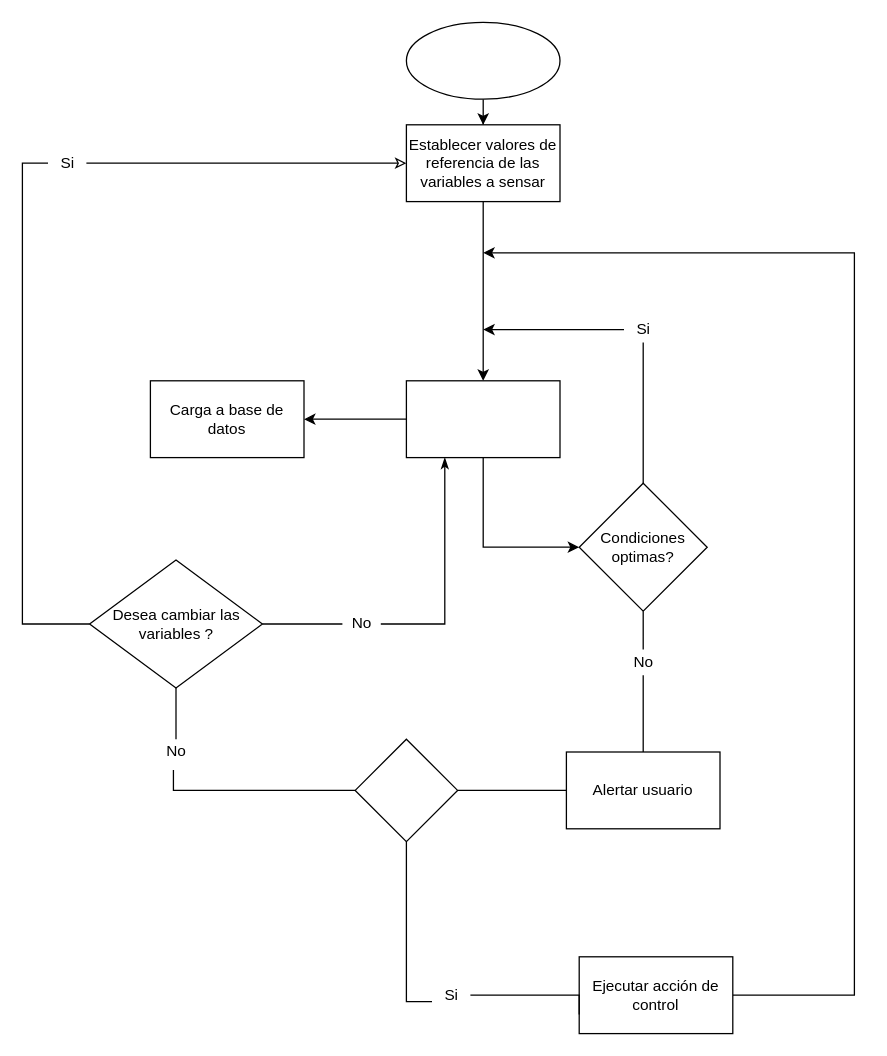
Some shapes in this 887 by 1056 pixel diagram are drawn without their labels. The shapes that lost their labels are listed below. From the top down, each one's box as (x1, y1, x2, y2) in pixels, then its label:
(405, 21, 560, 99): Inicio
(405, 380, 560, 458): Realizar la medición de las variables
(354, 738, 458, 842): Acción de control ?
